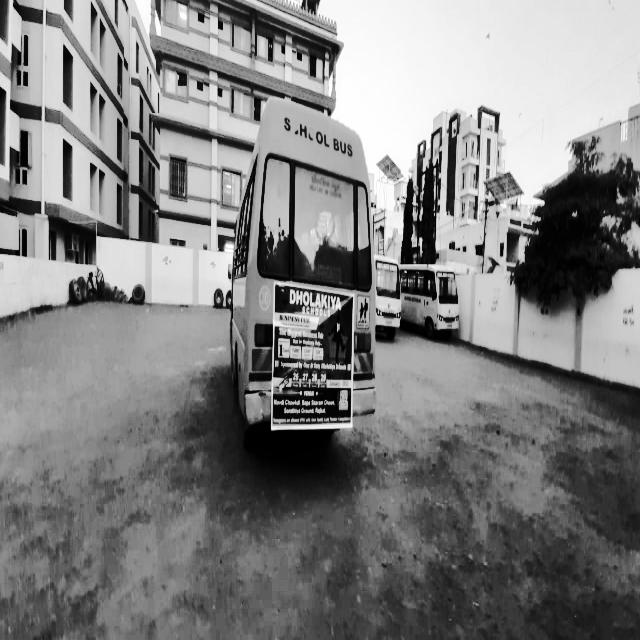Bus: (230, 92, 382, 478), (409, 260, 463, 348), (370, 245, 405, 343)
